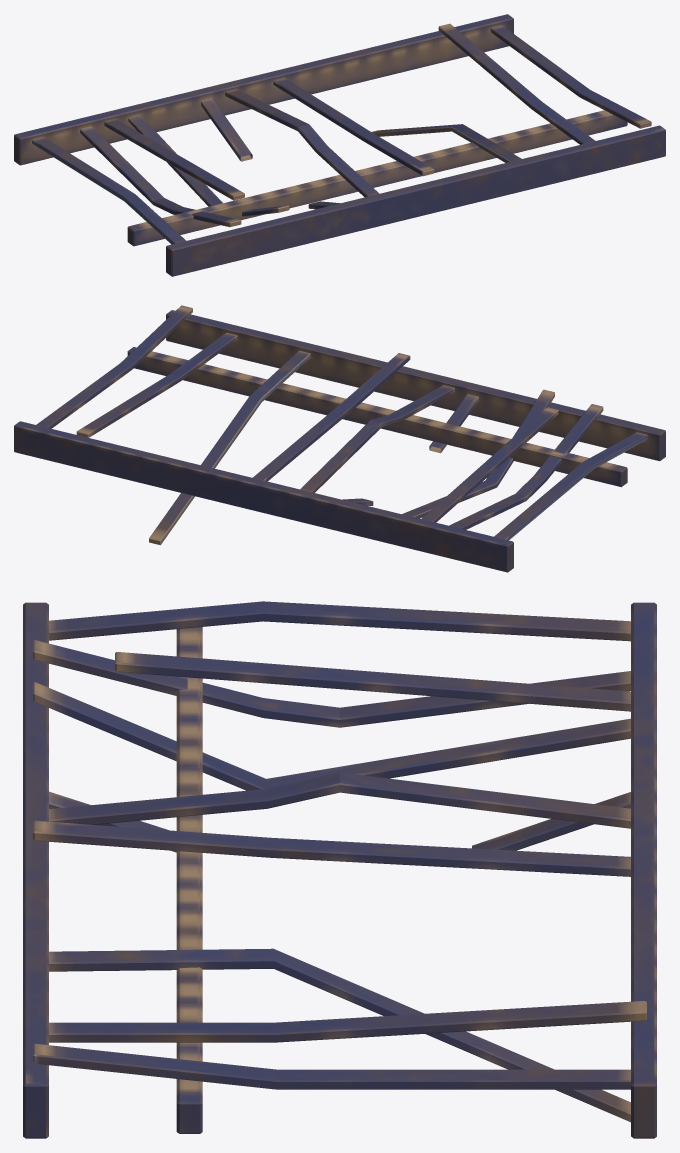
Rendered from Damaged Scaffold Floor_02.fbx.
3 views of the same model, one above another, from view 1: azimuth 30°, elevation 25°; view 2: azimuth 150°, elevation 25°; view 3: azimuth 270°, elevation 25° (orthographic). The views are drawn at different scales.
Parts seen in each view (by area): view 1: Scaffold Floor.002; view 2: Scaffold Floor.002; view 3: Scaffold Floor.002.
Boxes of the visible parts, <box> form: Scaffold Floor.002: <box>14,14,665,276</box>; Scaffold Floor.002: <box>14,305,665,572</box>; Scaffold Floor.002: <box>23,601,656,1138</box>.
Bounding box in the file's own units: 216 × 43.11 × 120.
